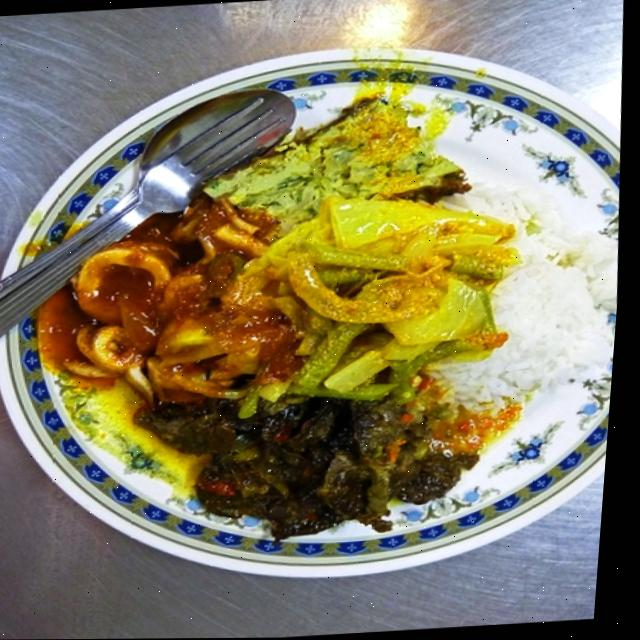米饭主食: (0, 7, 639, 611)
